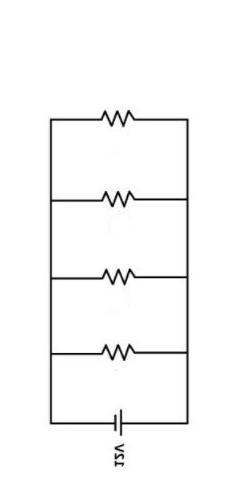resistor: (82, 249, 157, 303), (79, 180, 157, 218), (84, 332, 164, 365), (83, 97, 152, 131)
